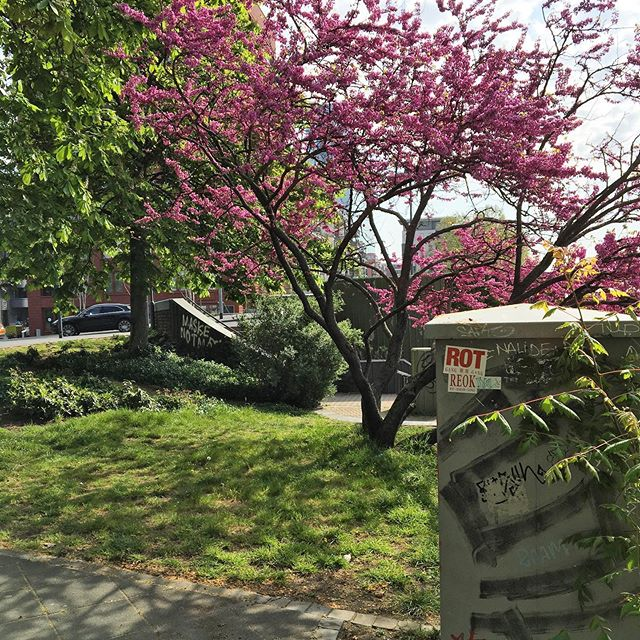car: (61, 307, 149, 330)
graffiti: (458, 348, 640, 625)
grass: (4, 367, 441, 613)
tree: (177, 1, 639, 443), (1, 1, 284, 323)
